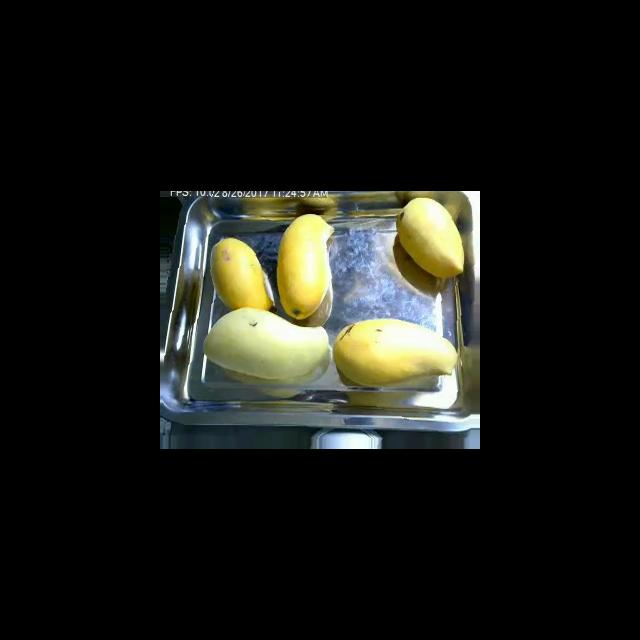mango: (201, 307, 330, 380), (332, 317, 457, 388), (276, 213, 334, 320), (396, 197, 464, 278), (209, 237, 273, 311), (392, 234, 446, 296)
